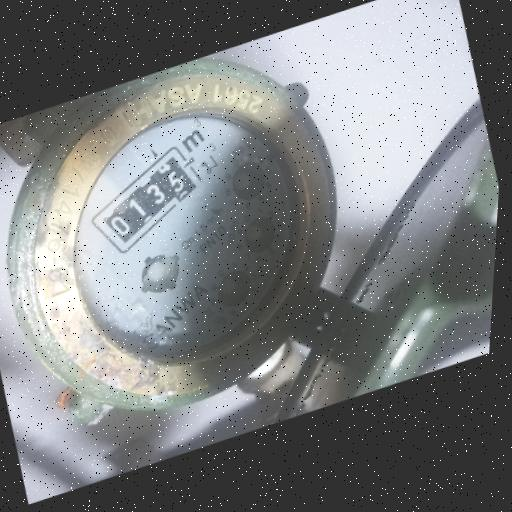0: (98, 199, 144, 248)
1: (114, 183, 162, 235)
3: (132, 167, 179, 219)
5: (149, 149, 202, 209)
border_water_meter_number: (74, 135, 221, 266)
